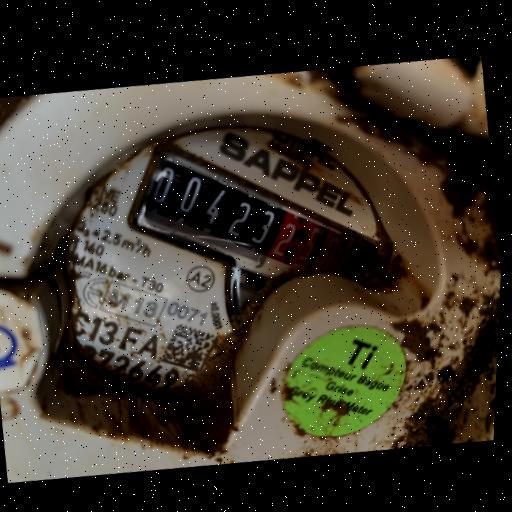0: (137, 155, 196, 223), (161, 165, 220, 233)
2: (211, 186, 268, 251), (262, 207, 316, 271)
3: (236, 197, 294, 262)
4: (186, 175, 244, 242)
5: (284, 217, 336, 278)
6: (305, 225, 361, 289)
border_water_meter_number: (108, 105, 406, 350)
